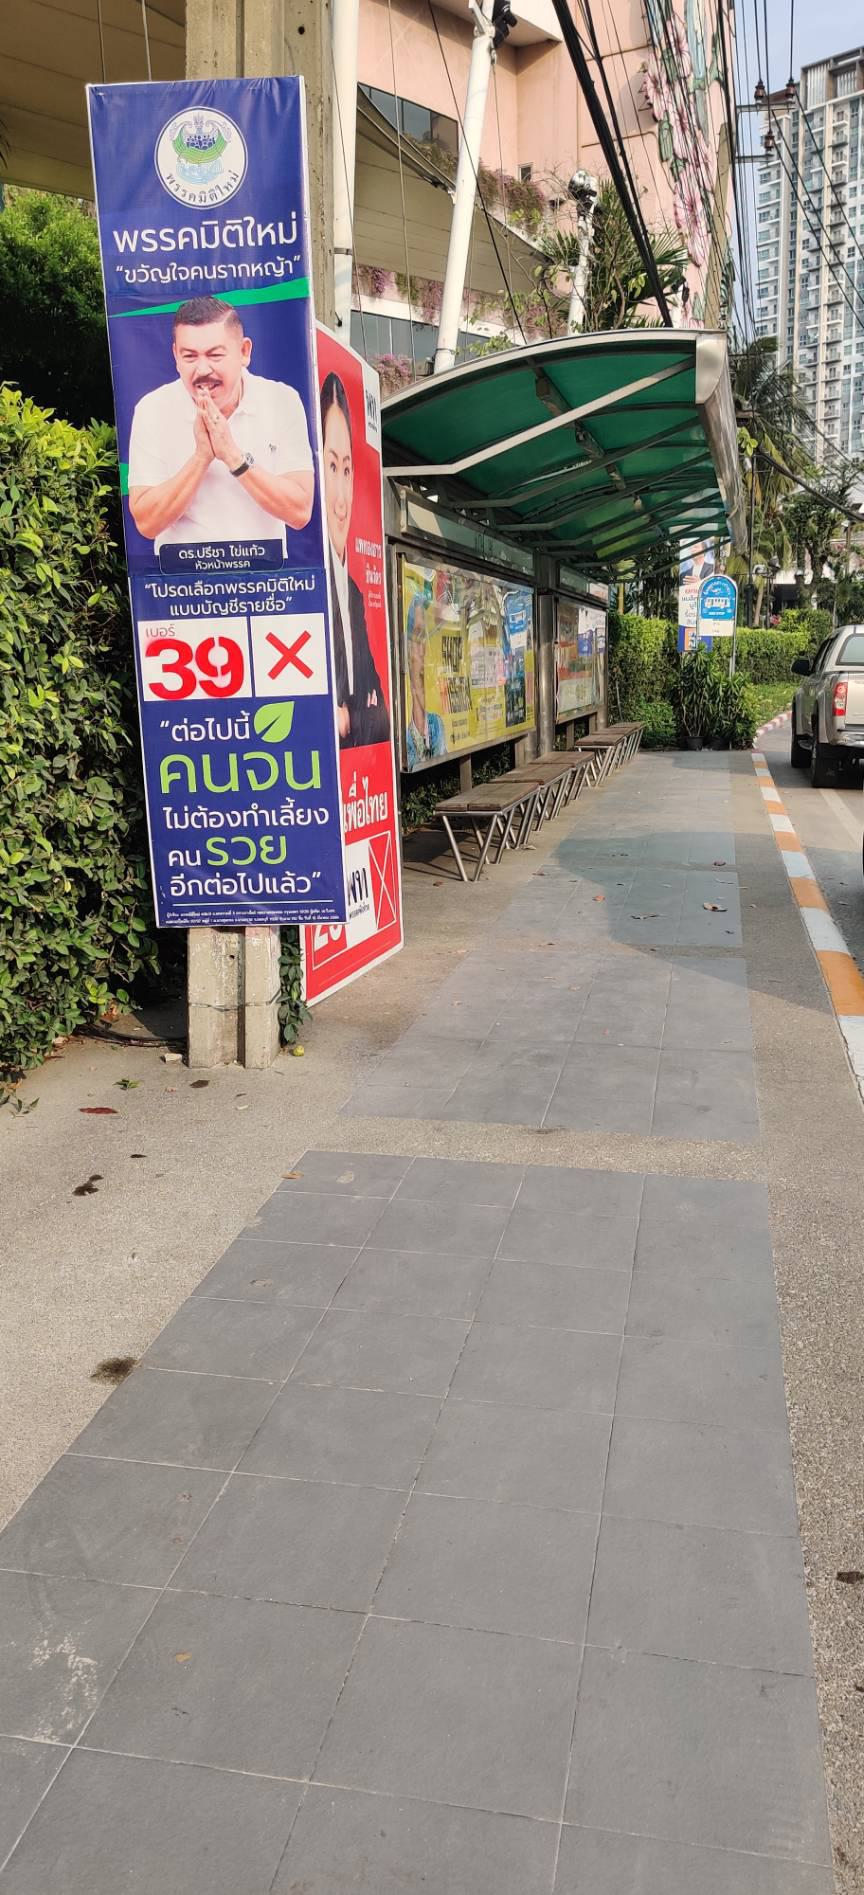Banner: (89, 83, 344, 925), (305, 323, 404, 1001)
